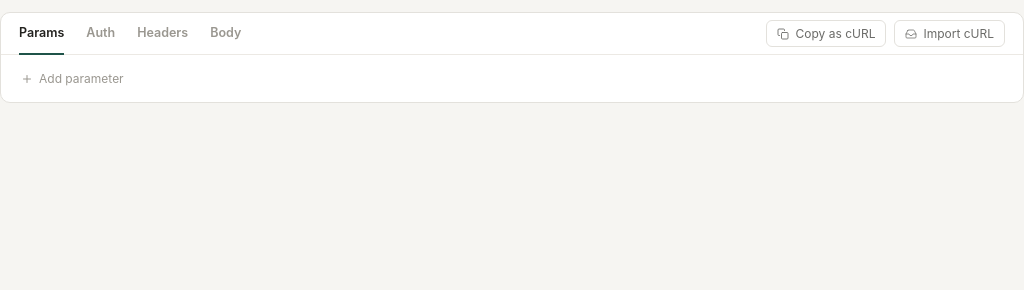
Test: RequestComposer — Import cURL › shows the error and keeps the panel open on a failed import
Click the button "Import cURL": click(950, 34) [894,20,1005,47]
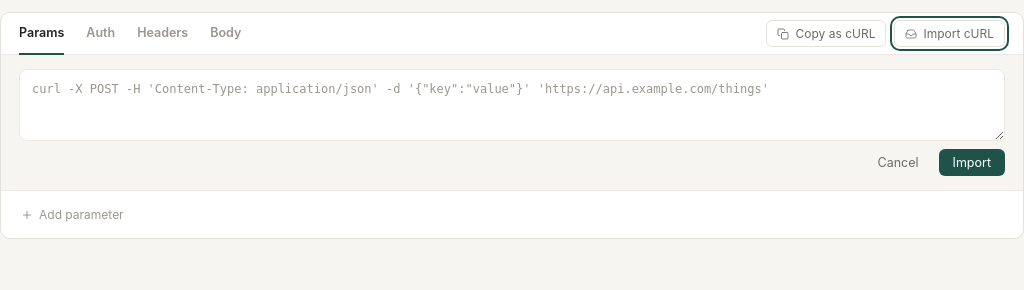
Click the button "Import": click(972, 162) [938,149,1005,176]
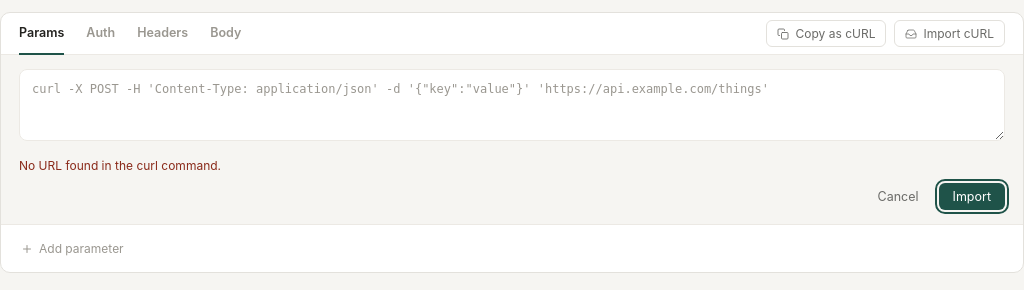
Result: the text box named "Paste a curl command" is shown at [19,69,1005,141]
Result: the text "No URL found in the curl command." is shown at [19,158,221,173]
